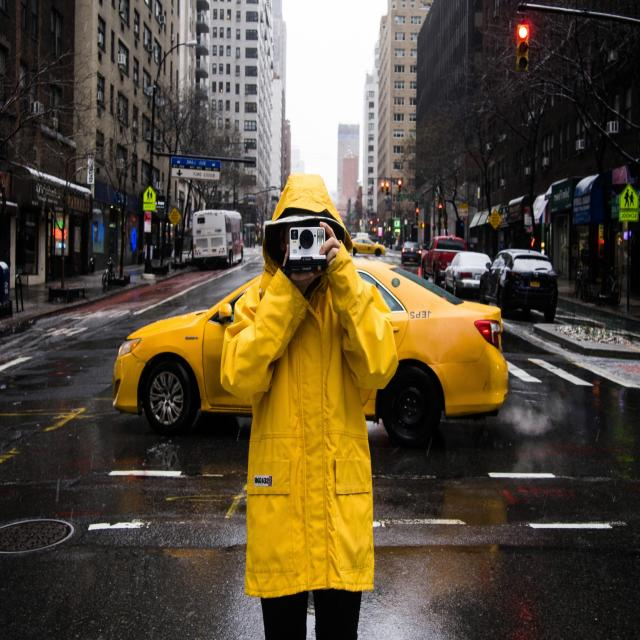adult: (223, 176, 393, 640)
